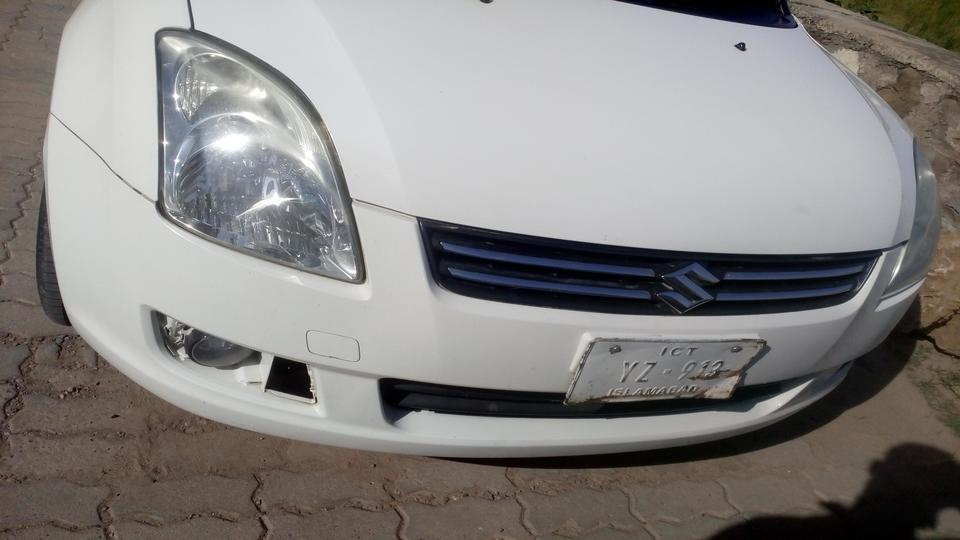NumberPlate: (565, 334, 764, 416)
